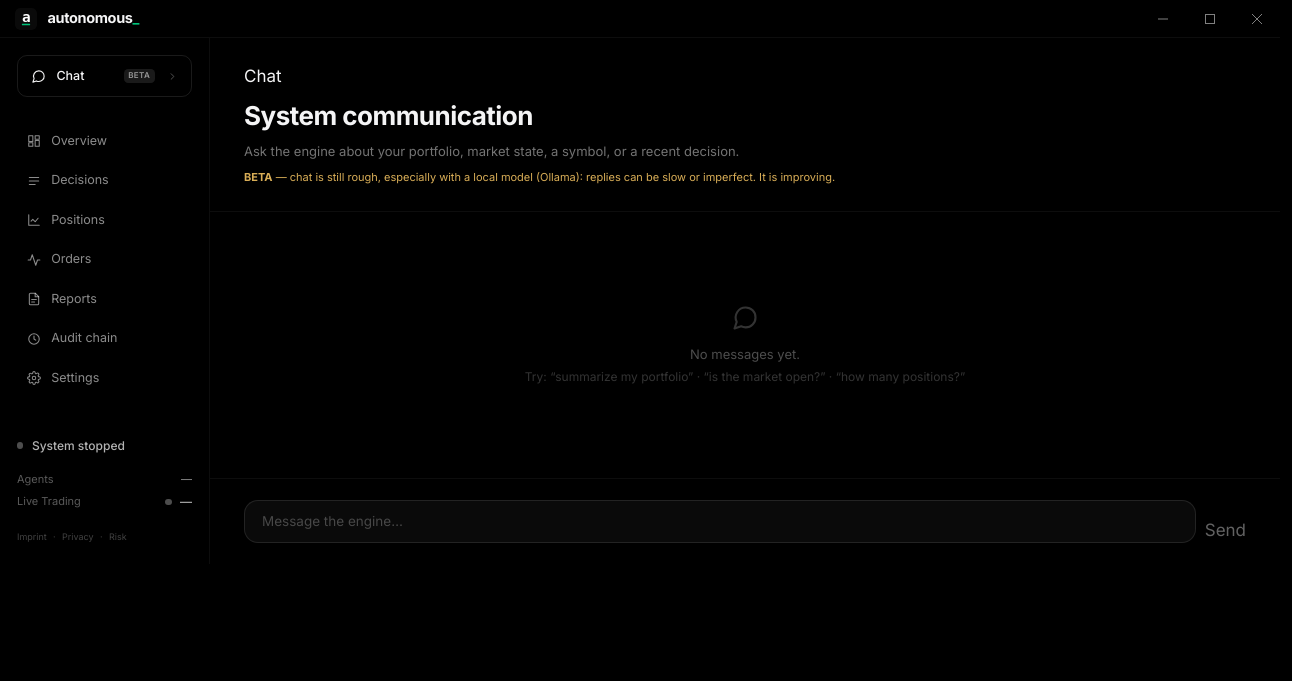
Scenario: Journey · Settings (engine lifecycle & safety) › a streamed log line appears live in the pane
The image size is (1292, 681).
Click the button "Settings" at (105, 378), box [13, 359, 196, 397]
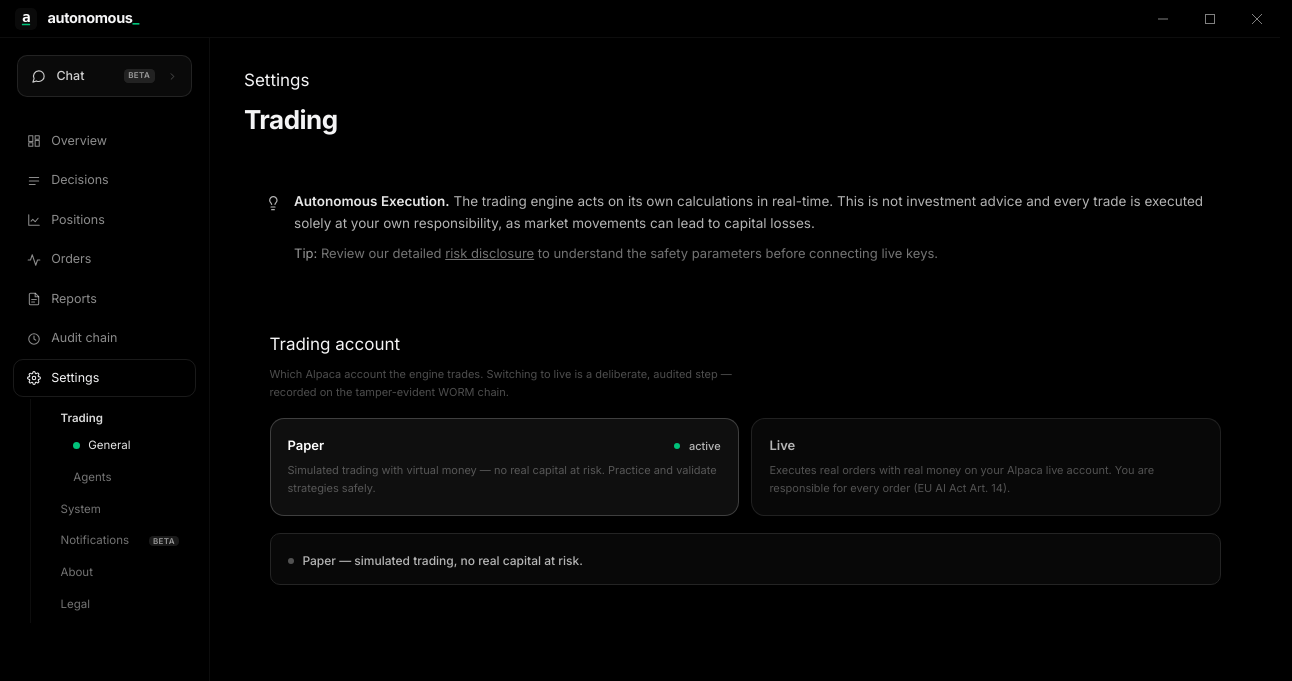
Click the button "System" at (120, 509), box [48, 494, 192, 524]
(page scrolled)
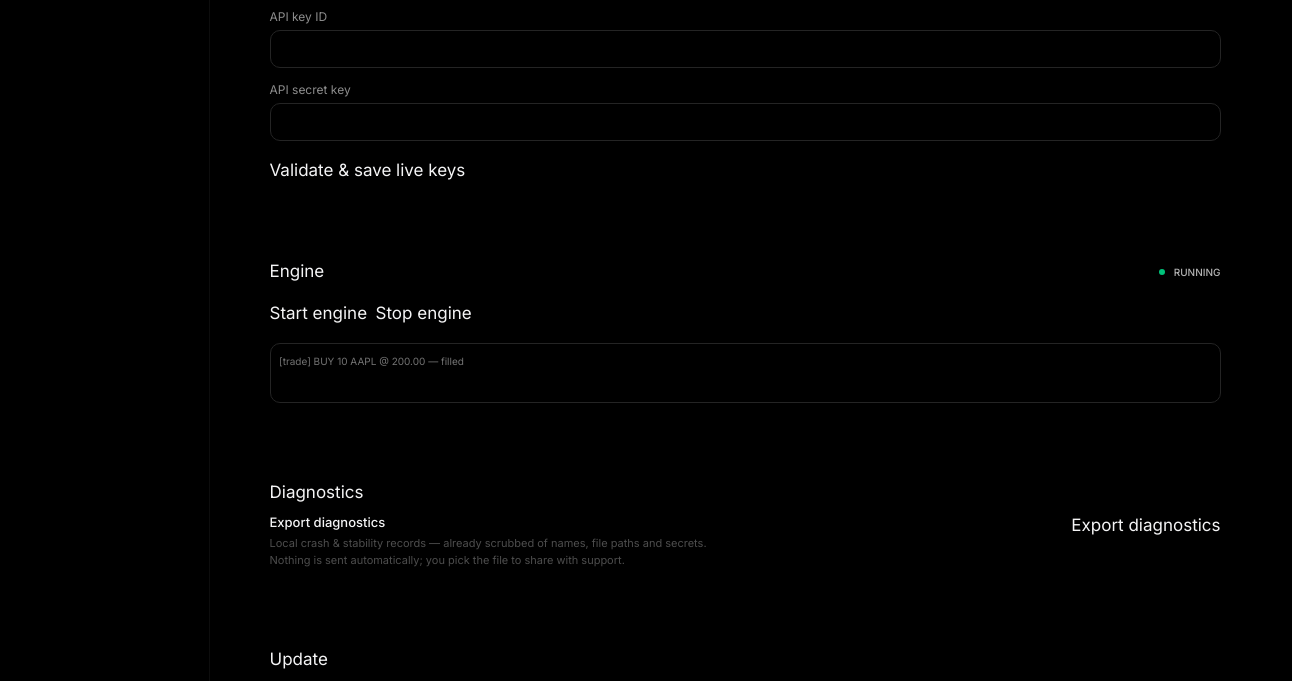
Now the text "[trade] BUY 10 AAPL @ 200.00 — filled" is shown, box [279, 355, 464, 367]
